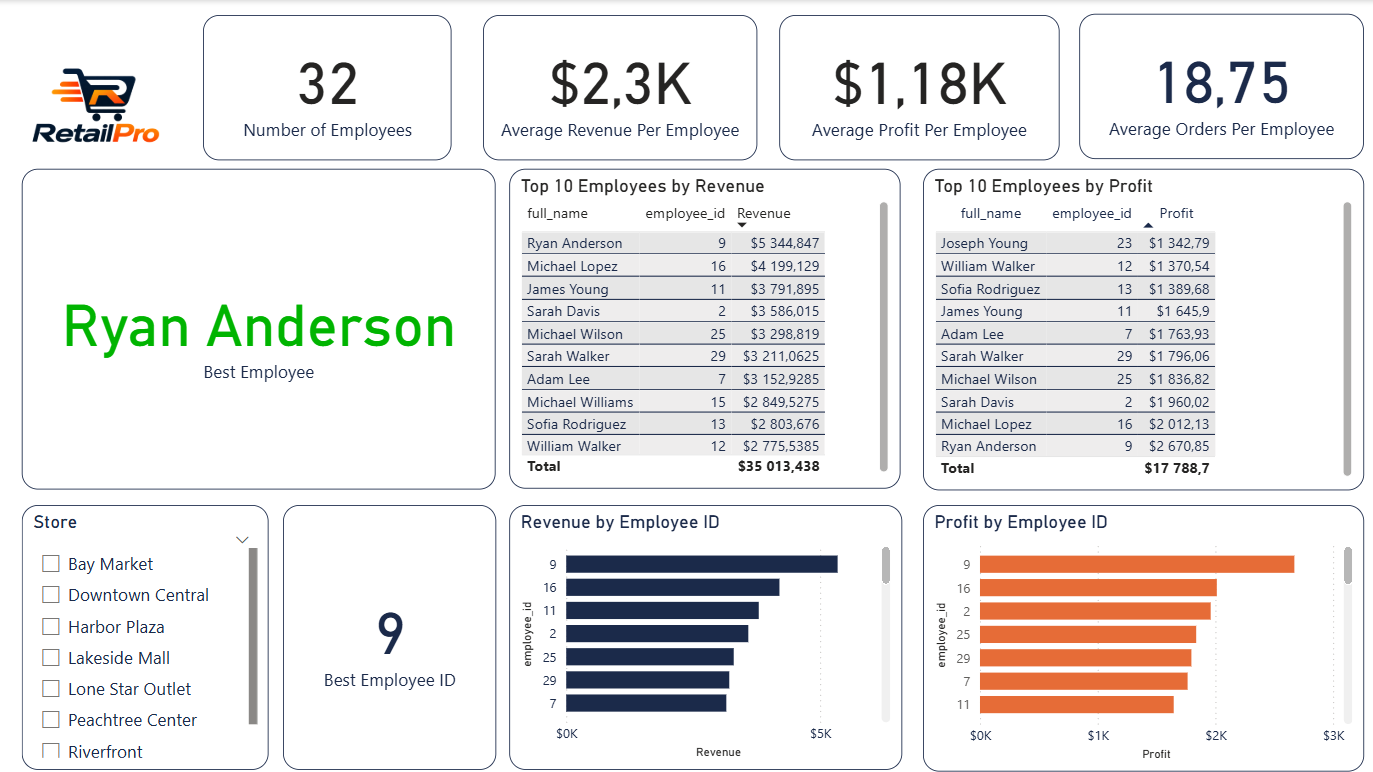

The dashboard page shown, as its layout file describes it:
{"tool":"powerbi","page":{"name":"Employees Overview","canvas":[1280,720],"ordinal":2},"visuals":[{"type":"card","fields":{"Values":["employees.Number of Employees"]},"box":[190.2,13.8,231.5,135.1],"z":0},{"type":"card","fields":{"Values":["orders.Revenue Per Employee"]},"box":[450.6,13.8,255,135.1],"z":1000},{"type":"card","fields":{"Values":["orders.Average Profit Per Employee"]},"box":[726.3,13.8,260.5,135.1],"z":2000},{"type":"card","fields":{"Values":["orders.Average Orders Per Employee"]},"box":[1006,12.4,264.6,135.1],"z":3000},{"type":"barChart","title":"Revenue by Employee ID","fields":{"Category":["orders.employee_id"],"Y":["orders.Revenue"]},"box":[475.5,469.9,365.2,246.7],"z":4000},{"type":"tableEx","title":"Top 10 Employees by Revenue","fields":{"Values":["employees.full_name","employees.employee_id","orders.Revenue"]},"box":[475.5,157.1,363.8,297.7],"z":5000},{"type":"tableEx","title":"Top 10 Employees by Profit","fields":{"Values":["employees.full_name","employees.employee_id","orders.Profit"]},"box":[860,157.1,410.7,299.1],"z":6000},{"type":"card","fields":{"Values":["orders.Best Employee"]},"box":[22.2,156.6,440.8,298.7],"z":7000},{"type":"clusteredBarChart","title":"Profit by Employee ID","fields":{"Category":["orders.employee_id"],"Y":["orders.Profit"]},"box":[860.4,469.3,410.3,248.4],"z":8000},{"type":"slicer","title":"Store","fields":{"Values":["stores.store_name"]},"box":[22.2,469.7,229.9,246.5],"z":10000},{"type":"image","box":[10,12,161,172],"z":10001},{"type":"card","fields":{"Values":["orders.Best Employee ID"]},"box":[264.6,469.9,198.5,246.7],"z":10002}]}

Visuals, with their boxes in screenshot pixels (x1, y1, x2, y2), scaled from the page's 1280x720 canvas onto the 1373x772 screenshot:
card - employees.Number of Employees: box(204, 15, 452, 160)
card - orders.Revenue Per Employee: box(483, 15, 757, 160)
card - orders.Average Profit Per Employee: box(779, 15, 1058, 160)
card - orders.Average Orders Per Employee: box(1079, 13, 1363, 158)
"Revenue by Employee ID" barChart: box(510, 504, 902, 768)
"Top 10 Employees by Revenue" tableEx: box(510, 168, 900, 488)
"Top 10 Employees by Profit" tableEx: box(922, 168, 1363, 489)
card - orders.Best Employee: box(24, 168, 497, 488)
"Profit by Employee ID" clusteredBarChart: box(923, 503, 1363, 770)
"Store" slicer: box(24, 504, 270, 768)
image: box(11, 13, 183, 197)
card - orders.Best Employee ID: box(284, 504, 497, 768)
